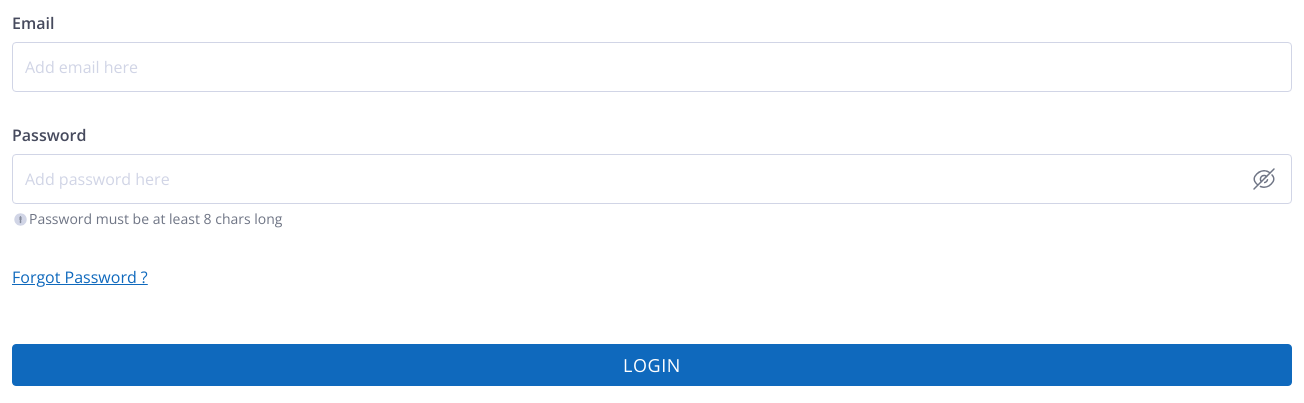
Test: SignInForm › should display min length error when password is invalid
In the field: (652,67) x1=12 y1=42 x2=1292 y2=92, type "test@mail.com"
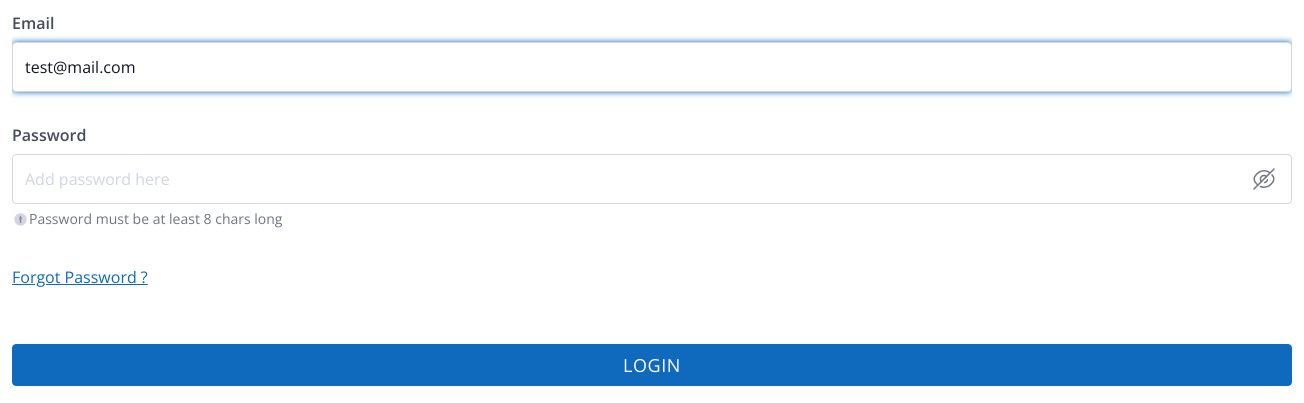
In the password field: (652,179) x1=12 y1=154 x2=1292 y2=204, type "pass"
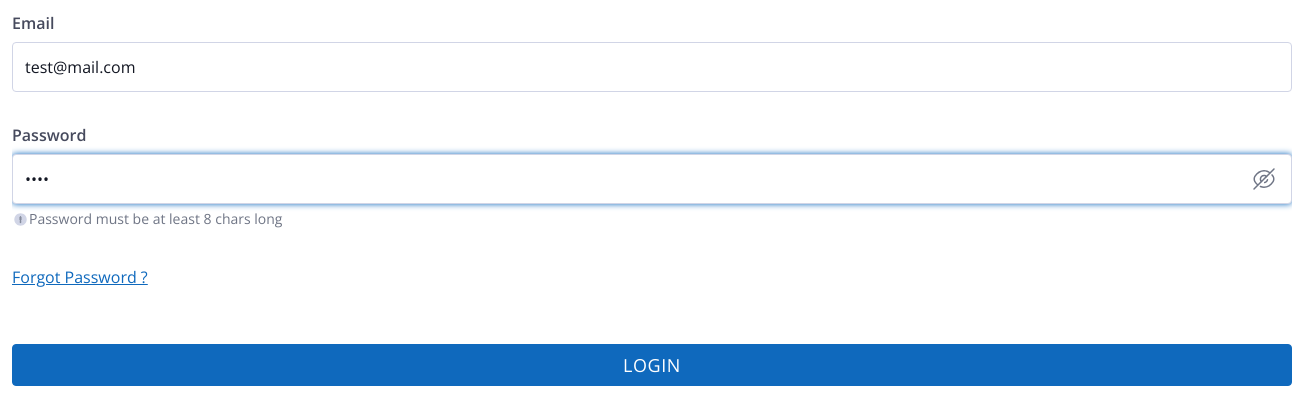
Submit the form from the button "Login", box x1=12 y1=344 x2=1292 y2=386
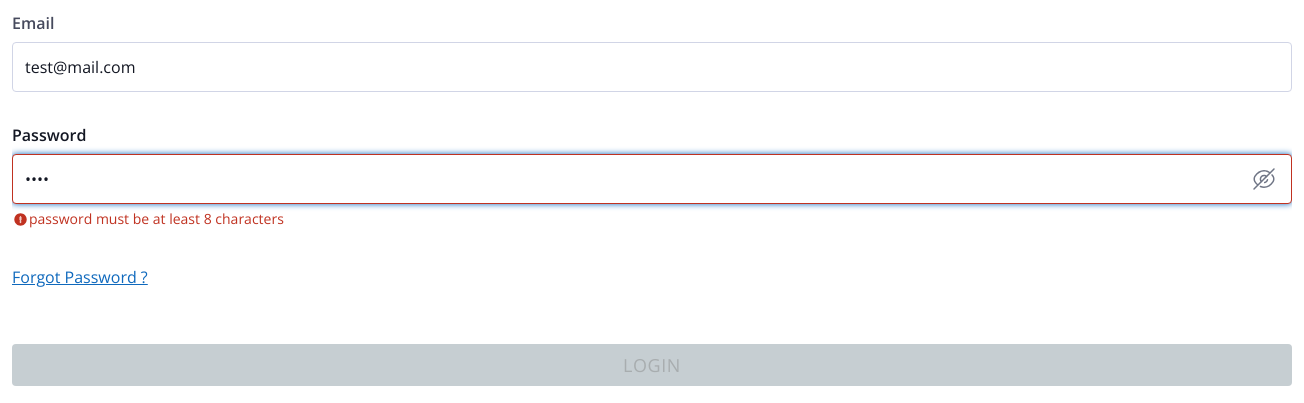
Check: the number of messages is 1, box x1=27 y1=206 x2=286 y2=232
Check: the text "password must be at least 8 characters" is shown, box x1=27 y1=206 x2=286 y2=232
Check: the button "Login" is disabled, box x1=12 y1=344 x2=1292 y2=386
